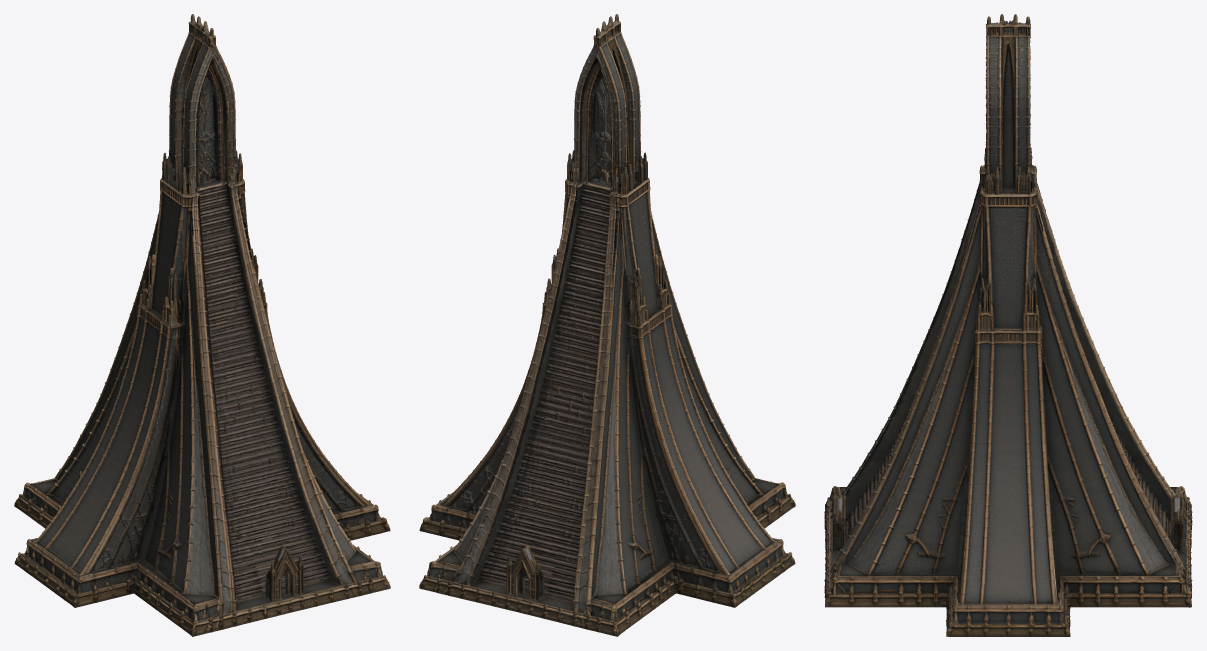
Rendered from epic_gothic_tower.glb.
The picture shows the model from 3 angles, left to right: view 1: azimuth 30°, elevation 25°; view 2: azimuth 150°, elevation 25°; view 3: azimuth 270°, elevation 25°; orthographic projection. The views are drawn at different scales.
Size of the model in its own units: 0.6114 by 0.979 by 0.6005.
1 material, 1 textured.
